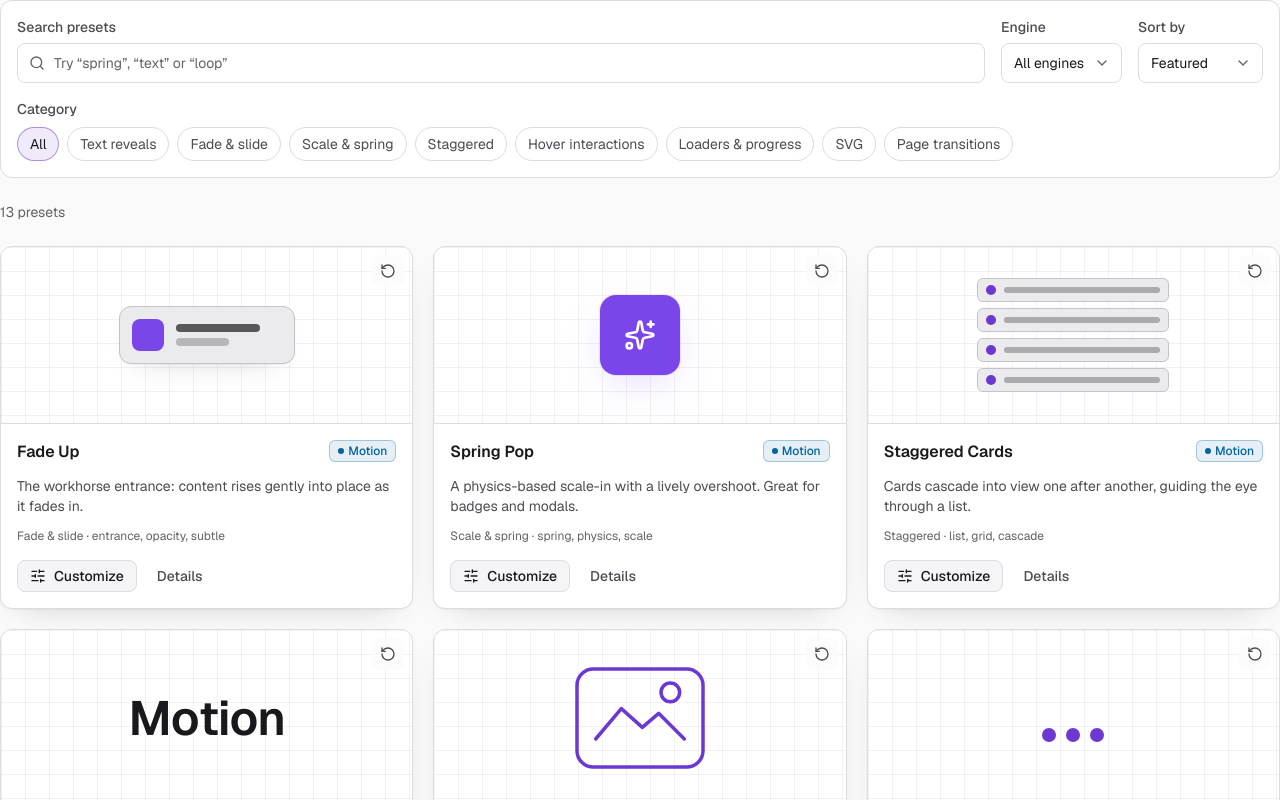
Test: GalleryBrowser › shows an empty state and clears filters
The width and height of the screenshot is (1280, 800).
In the search field labelled "Search presets": (501, 63) x1=17 y1=43 x2=985 y2=83, type "no-such-animation"
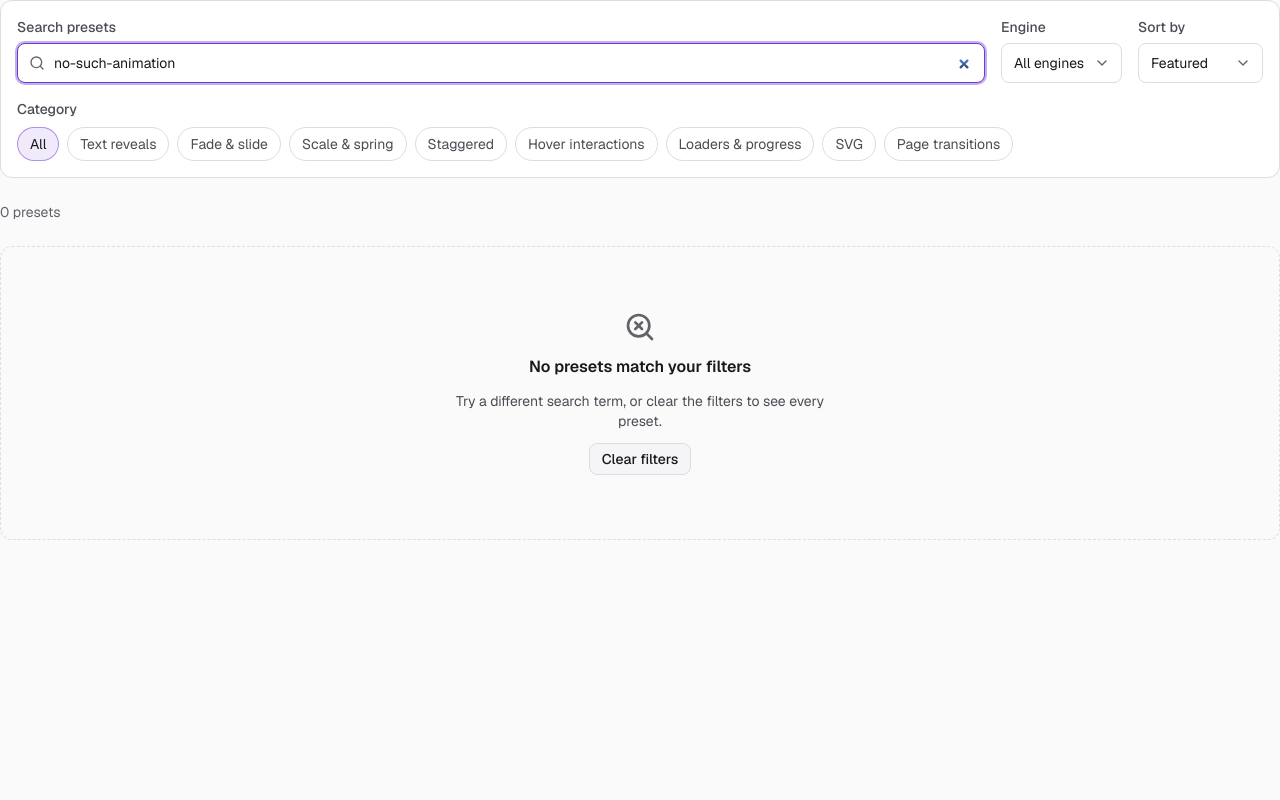
Result: the heading "No presets match your filters" is shown at x1=529 y1=355 x2=751 y2=379
Click the button "Clear filters": (640, 459) x1=589 y1=443 x2=691 y2=475
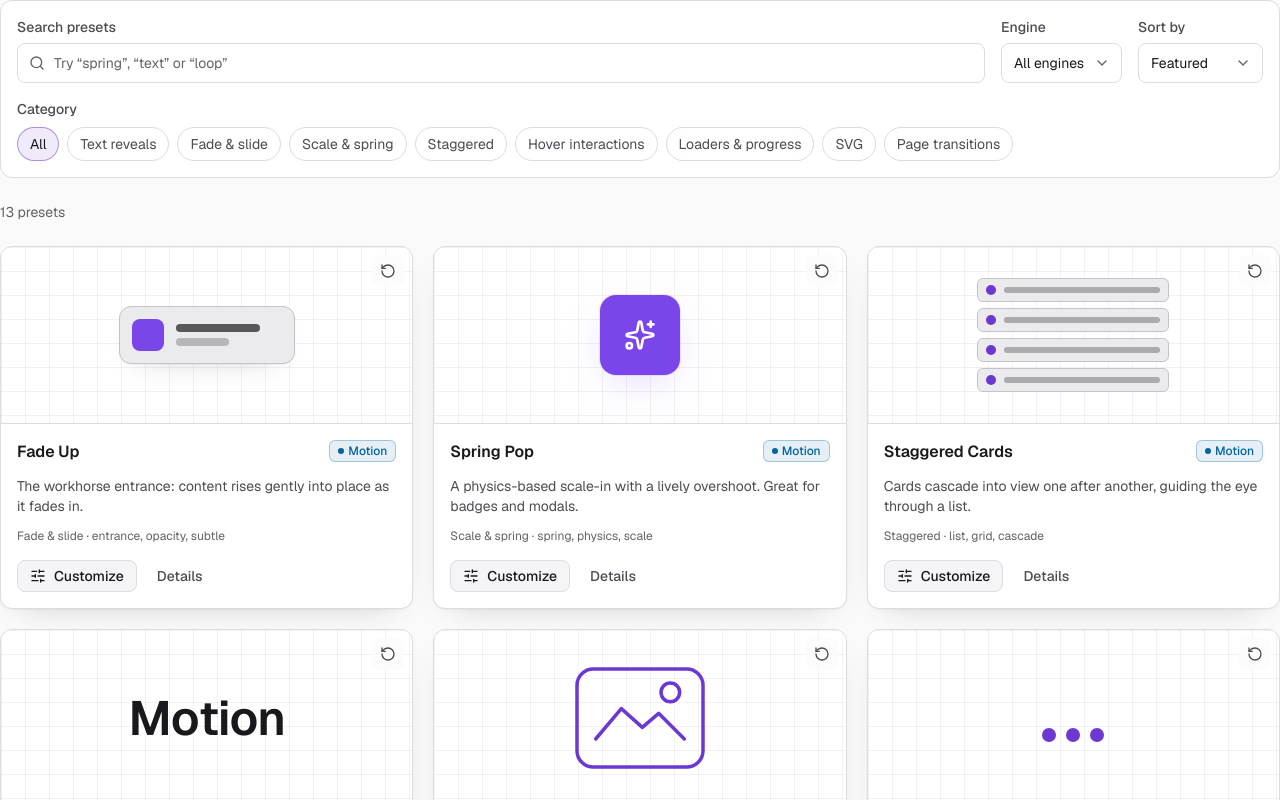
Result: the search field labelled "Search presets" is empty at x1=17 y1=43 x2=985 y2=83
